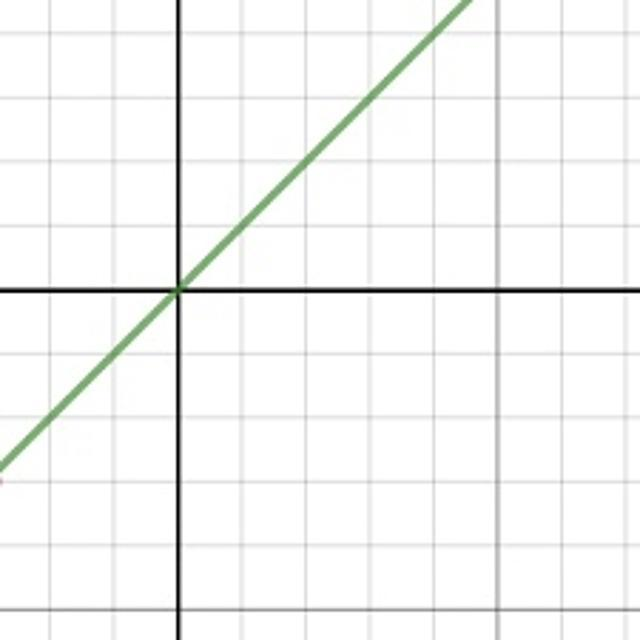axis: (0, 285, 640, 296), (174, 1, 184, 640)
